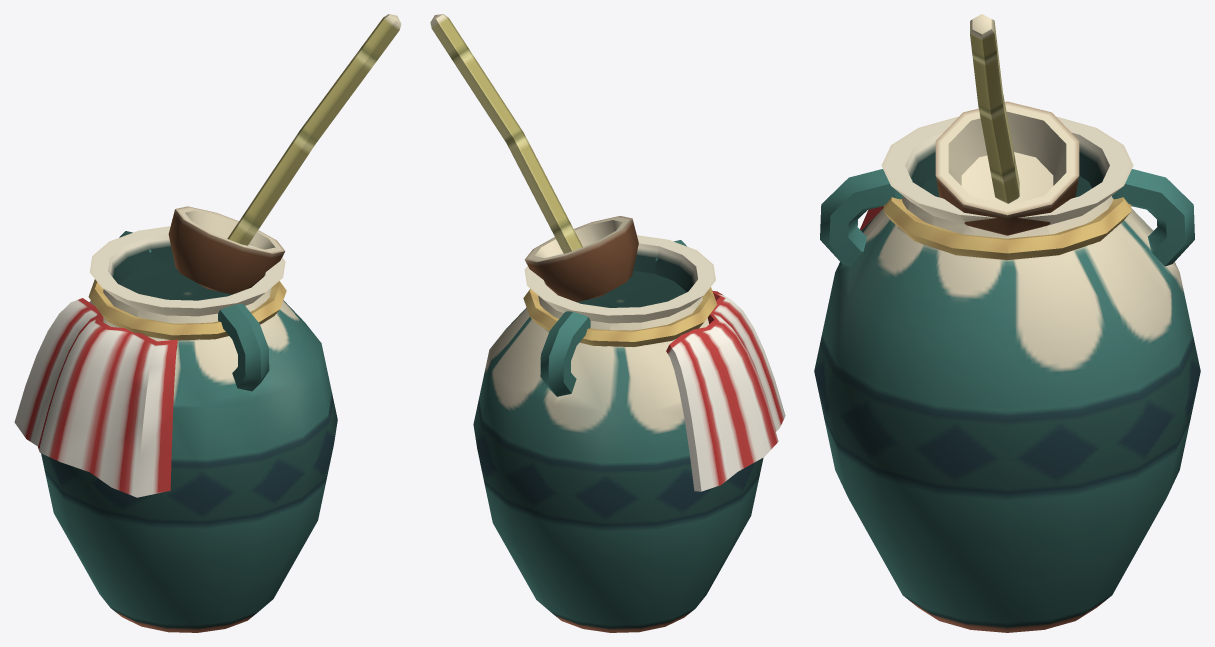
File: tapuy_jar_open.glb
The picture shows the model from 3 angles, left to right: view 1: azimuth 30°, elevation 25°; view 2: azimuth 150°, elevation 25°; view 3: azimuth 270°, elevation 25°; orthographic projection. The views are drawn at different scales.
Visible parts, largest first — view 1: tapuy_jar_open; view 2: tapuy_jar_open; view 3: tapuy_jar_open.
Boxes of the visible parts, left/top/right/bottom form: tapuy_jar_open: left=14, top=14, right=401, bottom=632; tapuy_jar_open: left=430, top=14, right=785, bottom=632; tapuy_jar_open: left=814, top=14, right=1200, bottom=632.
Bounding box in the file's own units: 0.7075 × 1.05 × 0.529.
1 material, 1 textured.
